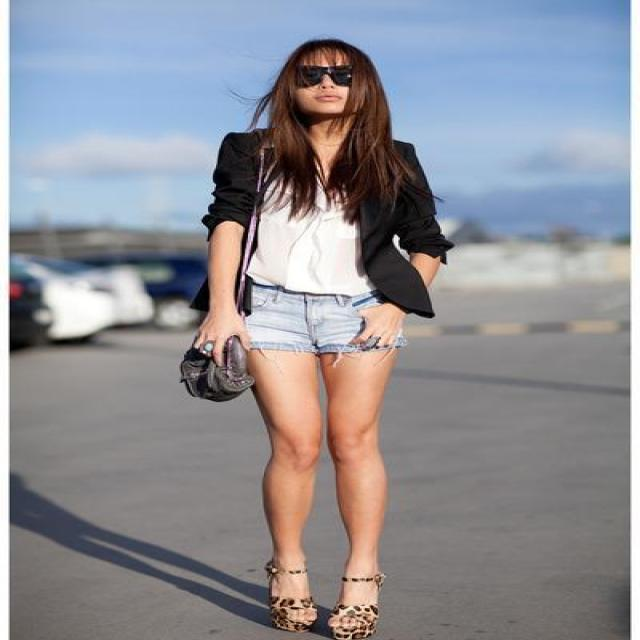bag: (180, 346, 262, 401)
jacket: (202, 130, 452, 317)
shirt: (246, 174, 364, 293)
shoe: (272, 599, 371, 639)
shorts: (234, 269, 382, 356)
